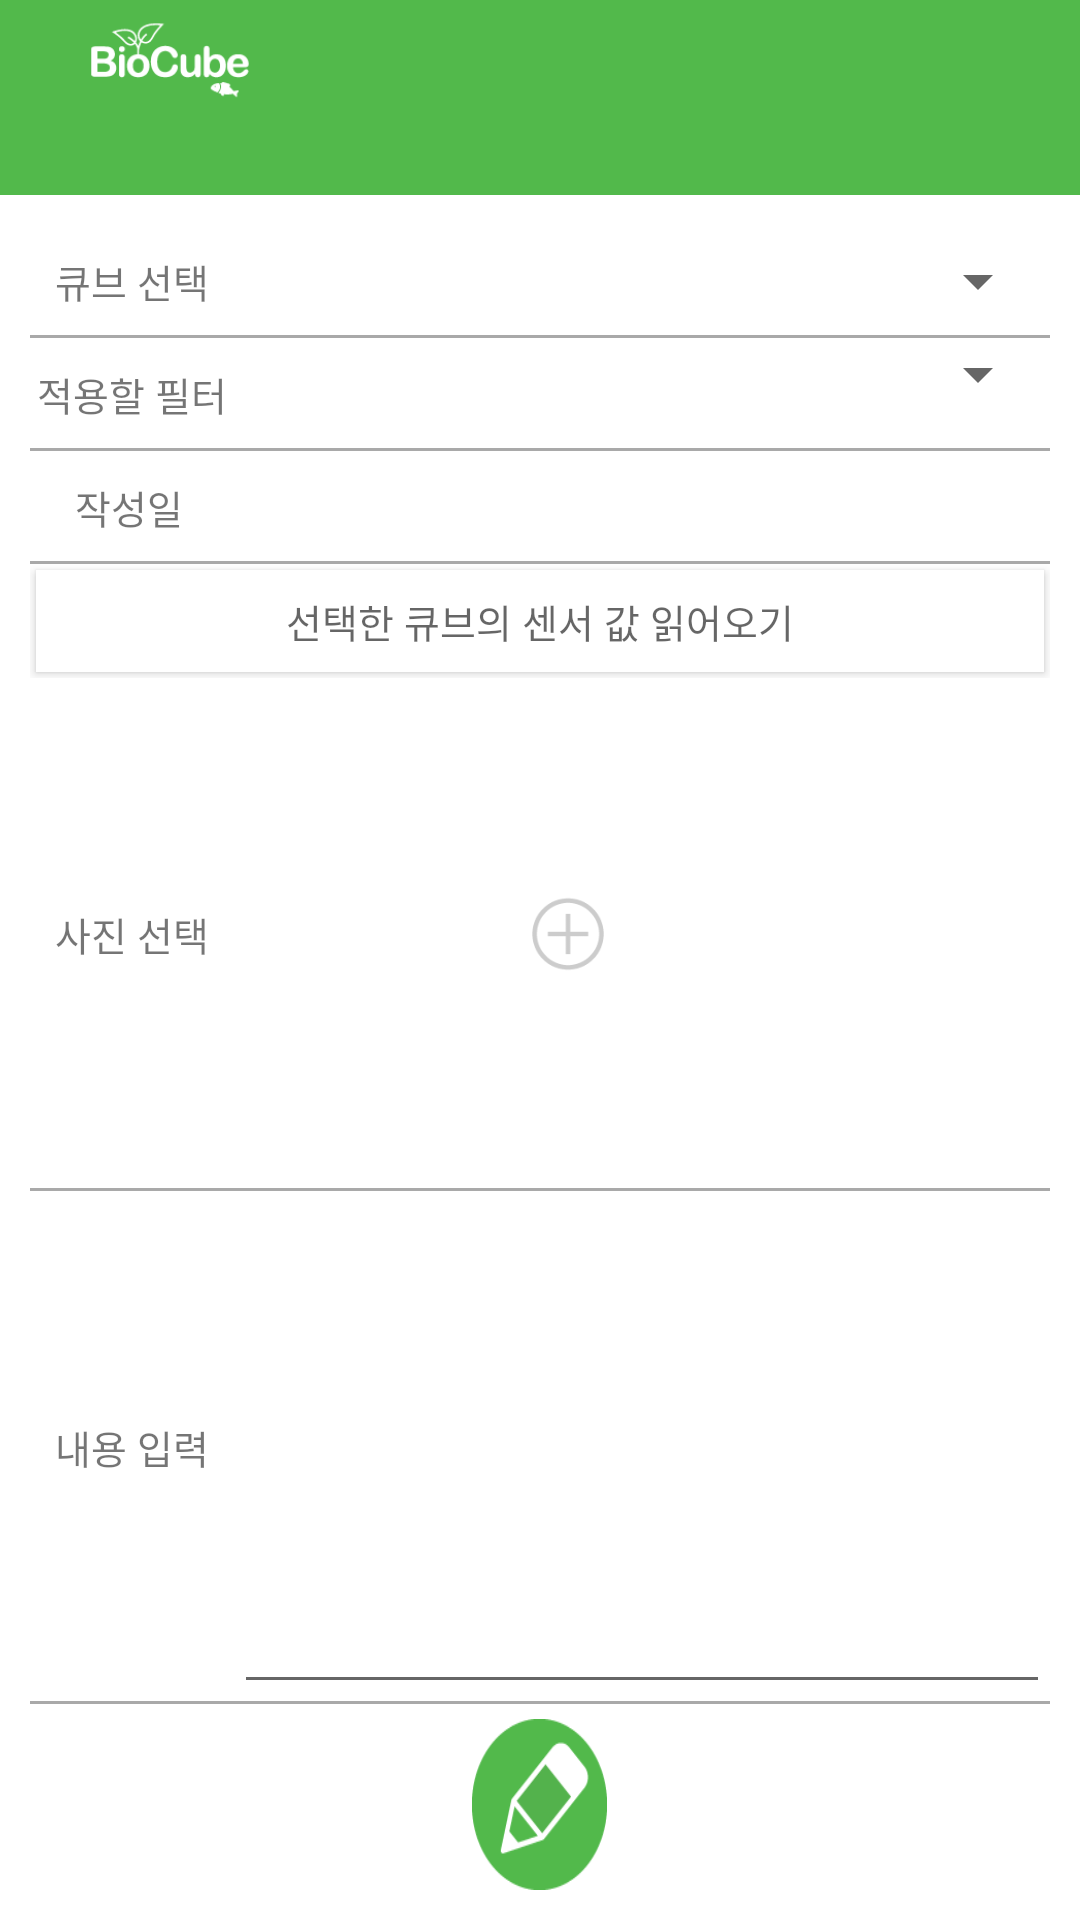

Icon click points for this 1080px x 1920px phone screenshot, format point (x, y):
note up: point (539, 1804)
